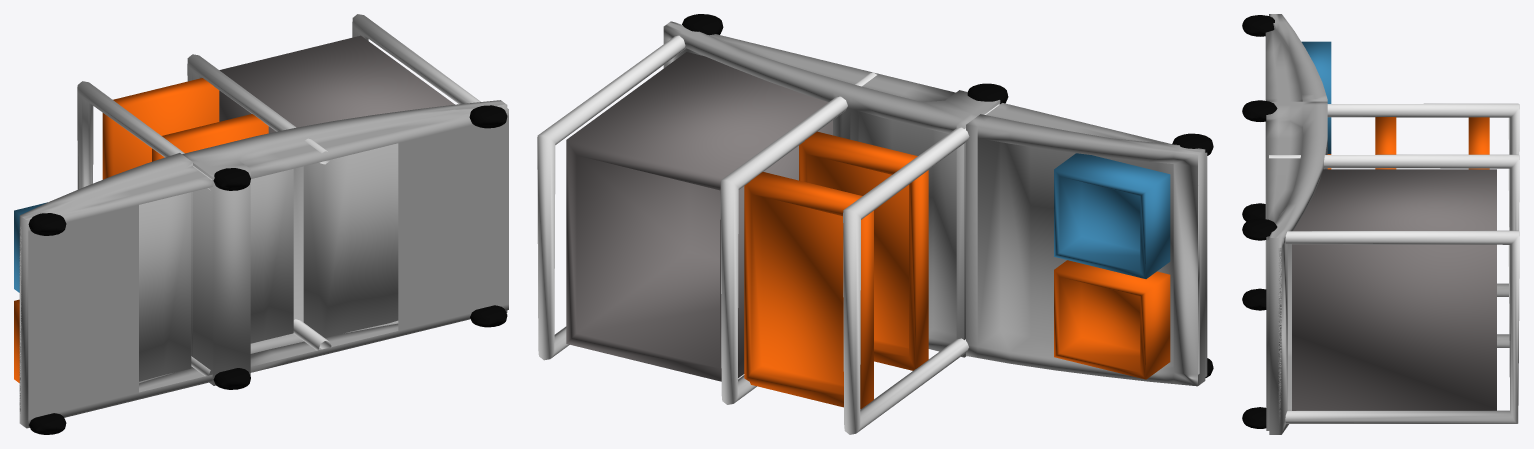
3 renders of one model, left to right at view 1: azimuth 30°, elevation 25°; view 2: azimuth 150°, elevation 25°; view 3: azimuth 270°, elevation 25°, orthographic. The views are drawn at different scales.
Visible parts, largest first — view 1: Circle; view 2: Circle; view 3: Circle.
Boxes of the visible parts, x1,y1,x2,y2 form: Circle: (14, 14, 508, 434); Circle: (537, 14, 1213, 434); Circle: (1242, 14, 1519, 434).
Size of the model in its own units: 139 by 58.47 by 73.38.
